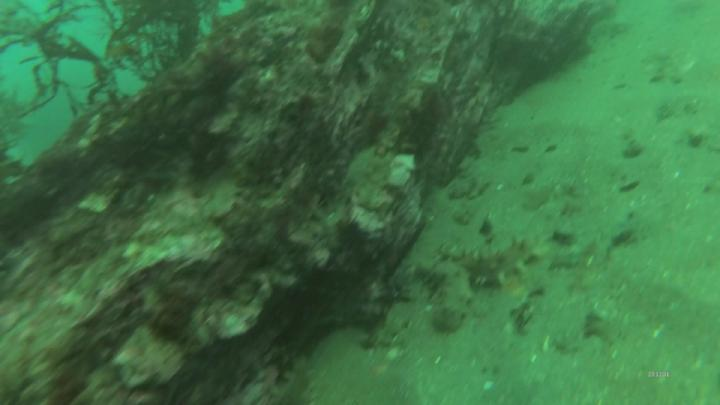holothurian: (438, 239, 545, 294), (419, 261, 476, 333)
waterweeds: (1, 2, 230, 115)
